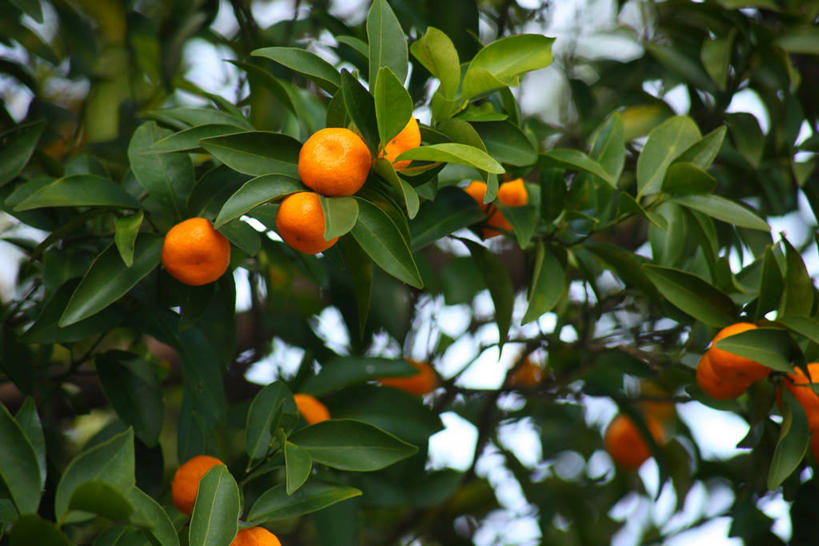orange: (296, 127, 371, 198), (158, 217, 230, 290), (364, 106, 422, 184), (276, 188, 339, 254), (709, 324, 774, 382), (171, 455, 232, 514), (697, 348, 750, 400), (496, 176, 539, 231), (278, 392, 333, 433), (446, 175, 490, 225), (787, 361, 819, 424), (218, 524, 283, 546)
